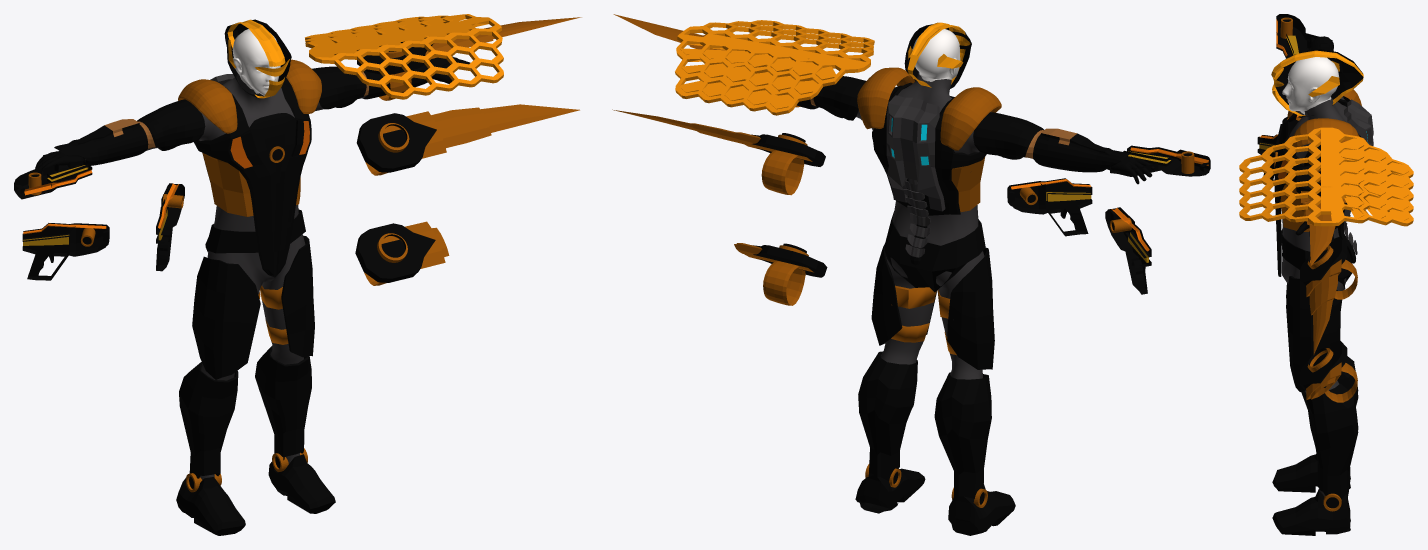
The model's file is uploads_files_2986407_v2.fbx.
The picture shows the model from 3 angles, left to right: view 1: azimuth 30°, elevation 25°; view 2: azimuth 150°, elevation 25°; view 3: azimuth 270°, elevation 25°; orthographic projection. The views are drawn at different scales.
Parts seen in each view (by area): view 1: Kostka.029, Walec.013, Kostka.025, Kostka.030, Body_low.001, Prostokąt.030, Kostka.043, Kostka.047, Walec.028, Kostka.028, Prostokąt.008, Prostokąt.028 (+14 smaller); view 2: Kostka.029, Walec.013, Body_low.001, Kostka.024, Prostokąt.030, Kostka.030, Prostokąt.027, Walec.031, Kostka.025, Kostka.047, Kostka.043, Prostokąt.032 (+10 smaller); view 3: Walec.013, Kostka.029, Kostka.028, Prostokąt.028, Body_low, Body_low.001, Kostka.047, Kostka.043, Kostka.025, Walec.030, Kostka.024, Prostokąt.004 (+13 smaller).
Boxes of the visible parts, x1,y1,x2,y2 form: Kostka.029: (176,346,335,535); Walec.013: (305,14,503,99); Kostka.025: (194,78,311,277); Kostka.030: (192,256,260,379); Body_low.001: (85,73,366,479); Prostokąt.030: (54,99,205,165); Kostka.043: (356,113,436,175); Kostka.047: (355,223,435,285); Walec.028: (22,223,109,280); Kostka.028: (281,235,314,357); Prostokąt.008: (312,57,448,109); Prostokąt.028: (224,19,291,98); Kostka.029: (855,351,1015,535); Walec.013: (675,20,874,115); Body_low.001: (856,72,991,379); Kostka.024: (886,95,945,211); Prostokąt.030: (973,112,1129,172); Kostka.030: (947,247,994,369); Prostokąt.027: (884,211,985,292); Walec.031: (1007,178,1092,236); Kostka.025: (872,82,986,215); Kostka.047: (753,243,827,305); Kostka.043: (751,133,825,195); Prostokąt.032: (940,87,1001,150); Walec.013: (1239,127,1413,226); Kostka.029: (1272,356,1358,535); Kostka.028: (1286,276,1342,391); Prostokąt.028: (1271,49,1363,116); Body_low: (1282,57,1339,114); Body_low.001: (1281,96,1347,500); Kostka.047: (1300,340,1357,402); Kostka.043: (1300,236,1357,299); Kostka.025: (1274,99,1360,276); Walec.030: (1276,14,1332,58); Kostka.024: (1344,99,1373,216); Prostokąt.004: (1287,118,1359,150).
Size of the model in its own units: 2395 by 1909 by 663.
